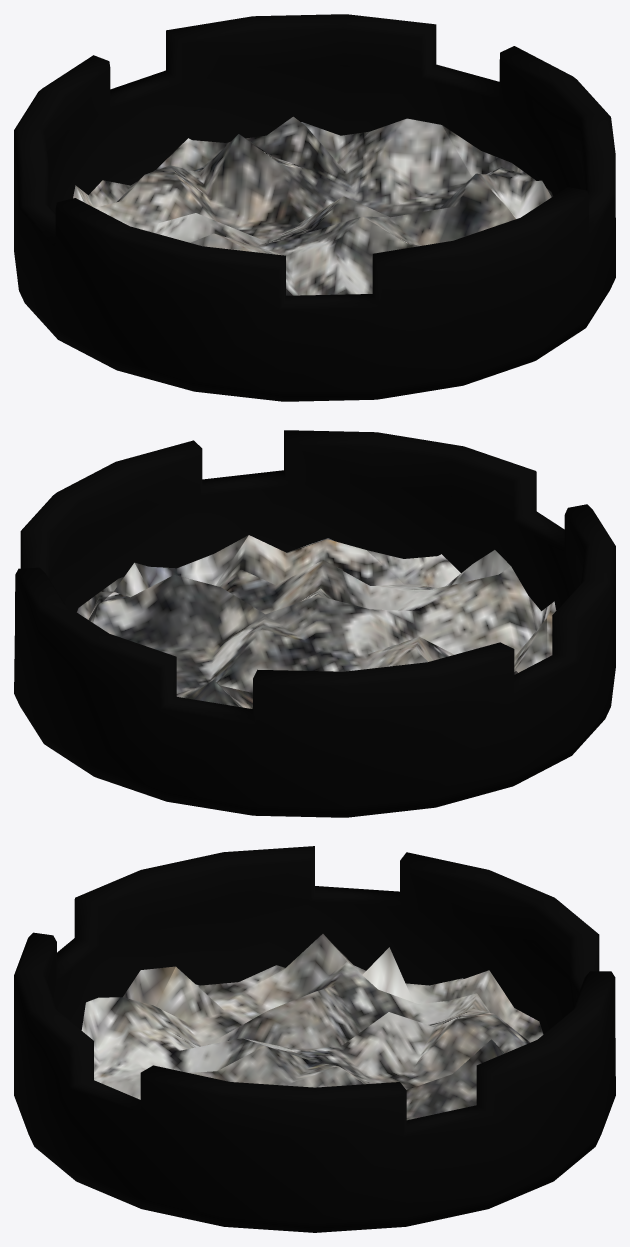
The model's file is Ashtray.obj.
3 renders of one model, top to bottom at view 1: azimuth 30°, elevation 25°; view 2: azimuth 150°, elevation 25°; view 3: azimuth 270°, elevation 25°, orthographic.
Parts seen in each view (by area): view 1: Ashtray, Ashtray.001; view 2: Ashtray, Ashtray.001; view 3: Ashtray, Ashtray.001.
Boxes of the visible parts, <box> form: Ashtray: <box>14,14,615,401</box>; Ashtray.001: <box>73,116,552,295</box>; Ashtray: <box>14,430,615,817</box>; Ashtray.001: <box>77,535,556,708</box>; Ashtray: <box>14,846,615,1232</box>; Ashtray.001: <box>81,934,543,1120</box>.
Bounding box in the file's own units: 2 × 0.5213 × 2.
1 material, 1 textured.
